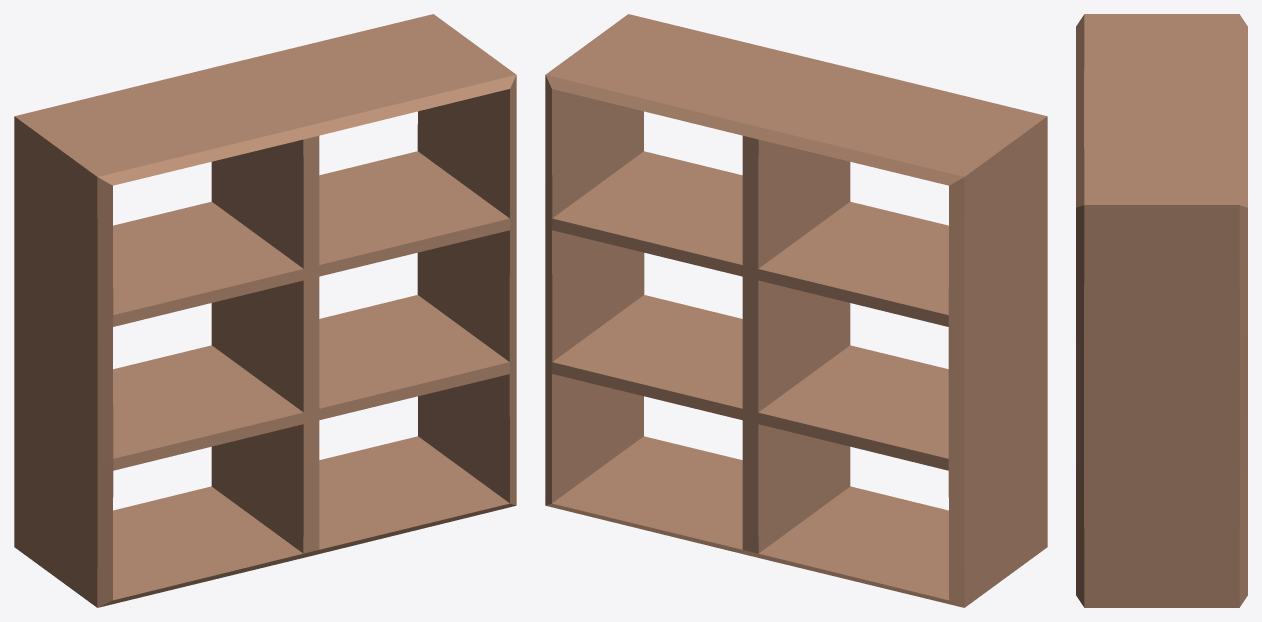
Rendered from Shelf.fbx.
3 renders of one model, left to right at view 1: azimuth 30°, elevation 25°; view 2: azimuth 150°, elevation 25°; view 3: azimuth 270°, elevation 25°, orthographic. The views are drawn at different scales.
Parts seen in each view (by area): view 1: pCube32; view 2: pCube32; view 3: pCube32.
Part boxes in pixels (x1=…): pCube32: x1=14, y1=14, x2=516, y2=607; pCube32: x1=545, y1=14, x2=1047, y2=607; pCube32: x1=1076, y1=14, x2=1247, y2=607.
Size of the model in its own units: 323 by 317 by 123.
